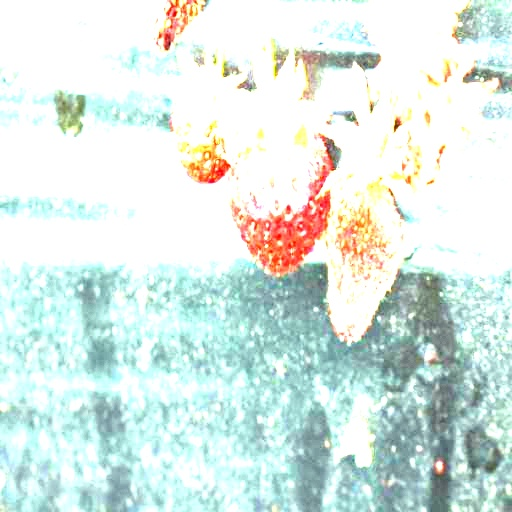Gray Mold: (314, 65, 424, 344)
